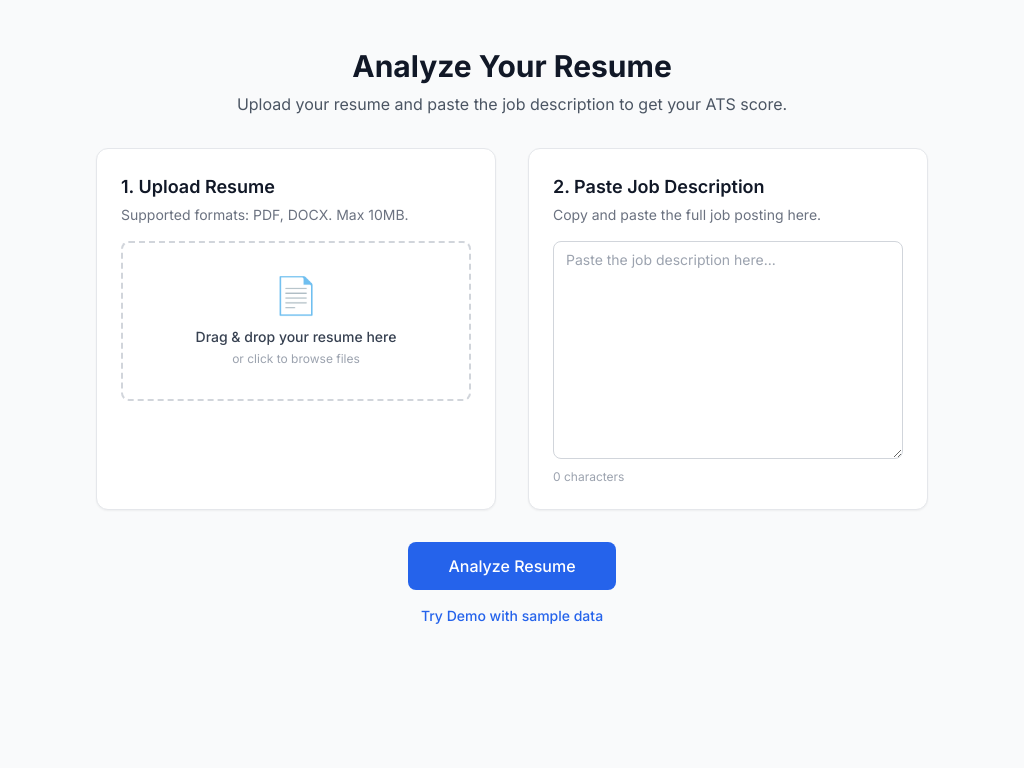
Test case: UploadPage › shows error when no file selected
Click the button "Analyze Resume": (512, 566) [408,542,616,590]
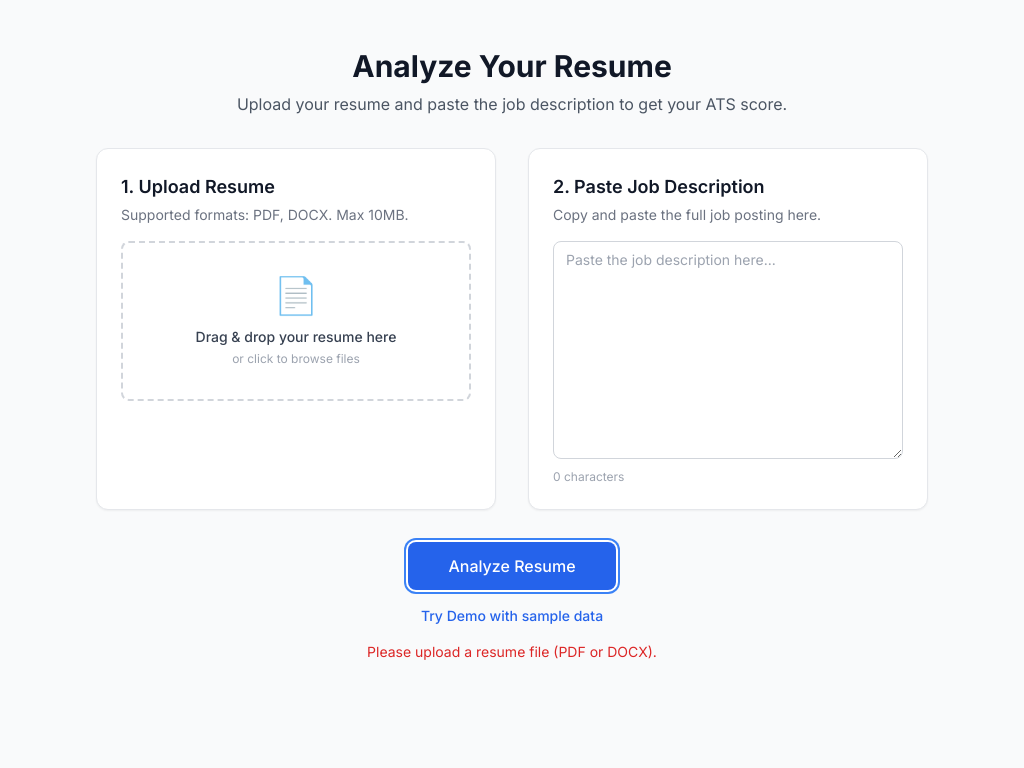
expect the message shows "Please upload a resume file": met, box [367,643,657,660]
